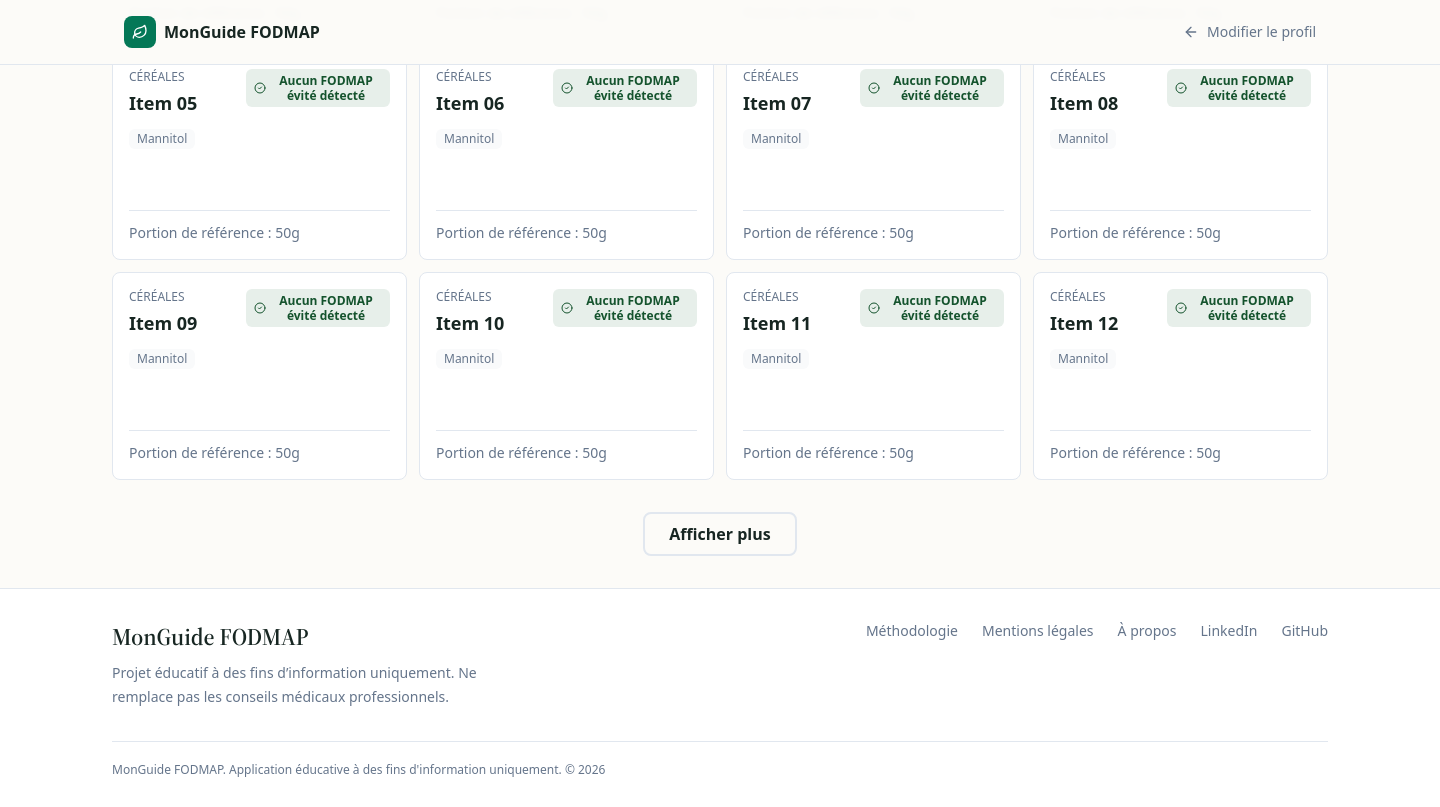
Test: Explorer workflow › resets the visible limit after a category change
(page scrolled)
Click the button "Afficher plus".
click(720, 534)  # box [643,512,797,556]
(page scrolled)
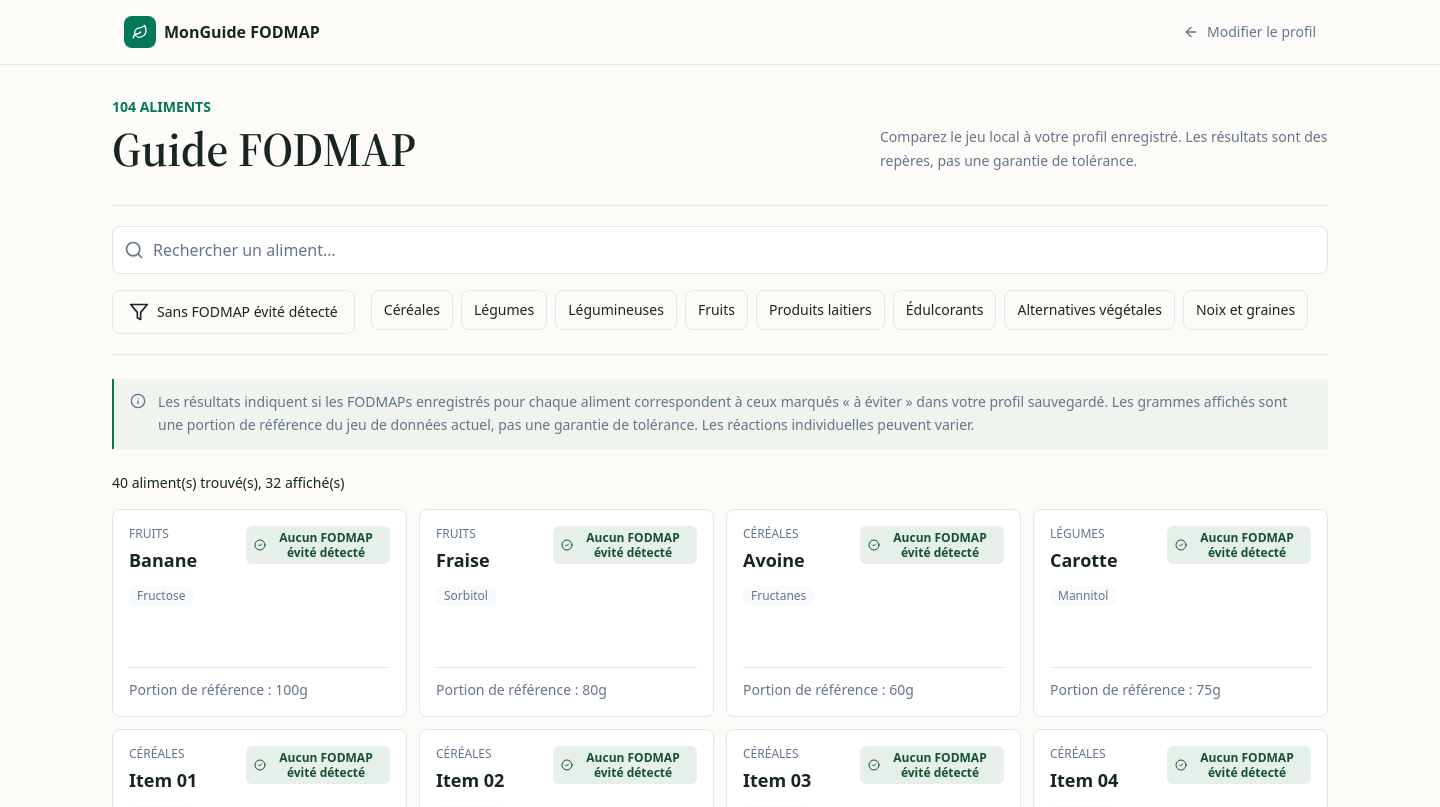
Click the button "Céréales".
click(412, 310)  # box [371,290,453,330]
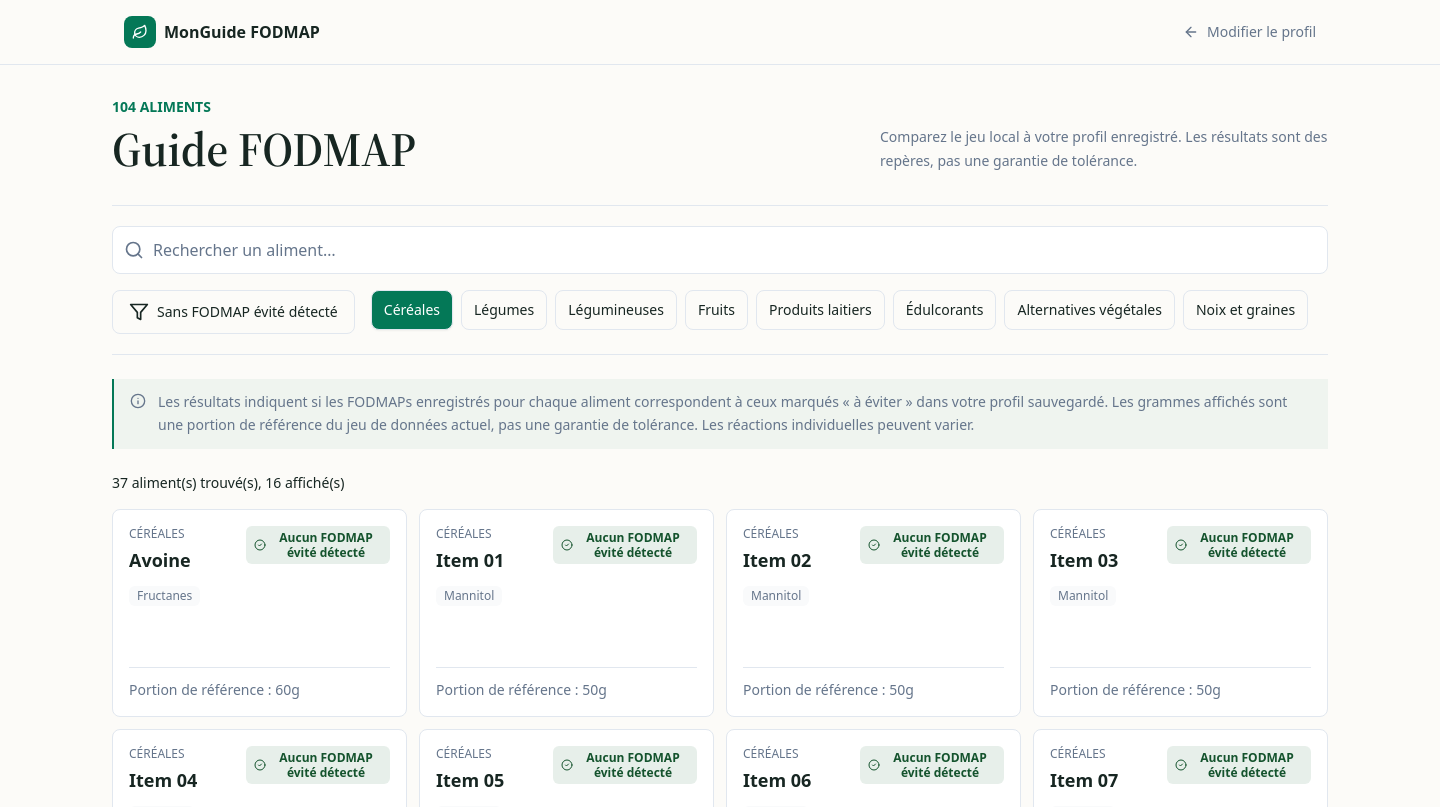
Expected: the heading "Avoine" is shown, [129,546,191,574]
Expected: the message shows "37 aliment(s) trouvé(s)", [112,472,258,492]
Expected: the message shows "16 affiché(s)", [258,472,344,492]
